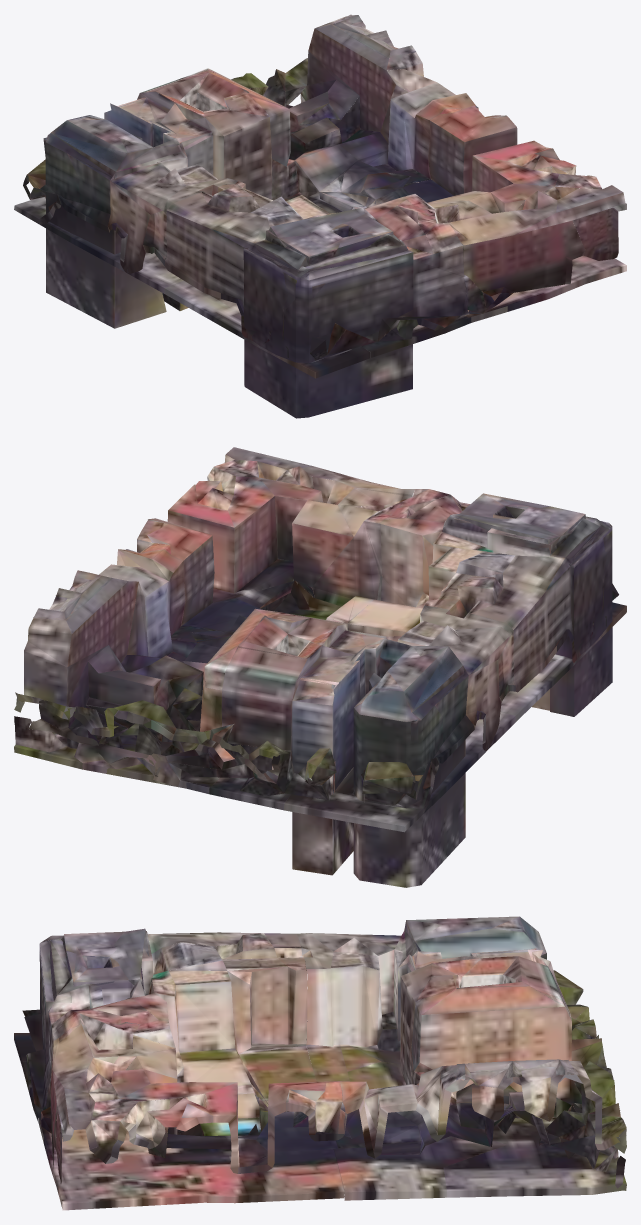
The picture shows the model from 3 angles, top to bottom: view 1: azimuth 30°, elevation 25°; view 2: azimuth 150°, elevation 25°; view 3: azimuth 270°, elevation 25°; orthographic projection. The views are drawn at different scales.
Visible parts, largest first — view 1: Mesh_0; view 2: Mesh_0; view 3: Mesh_0.
Boxes of the visible parts, x1,y1,x2,y2 form: Mesh_0: [14, 14, 626, 418]; Mesh_0: [14, 447, 626, 887]; Mesh_0: [14, 916, 626, 1210].
Bounding box in the file's own units: 133 × 61.59 × 165.
2 materials, 2 textured.
